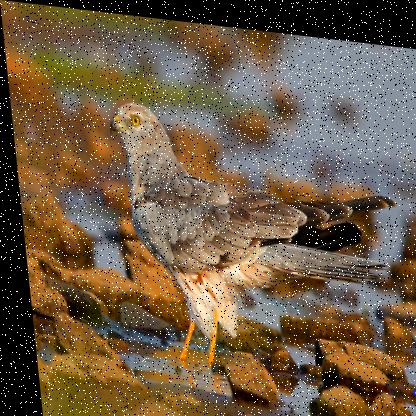Burung: (104, 92, 404, 385)
